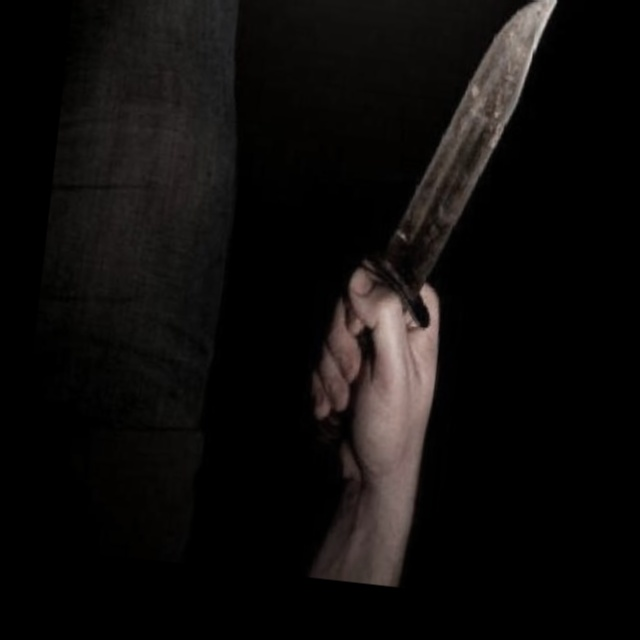Sharp-Object: (311, 0, 559, 466)
